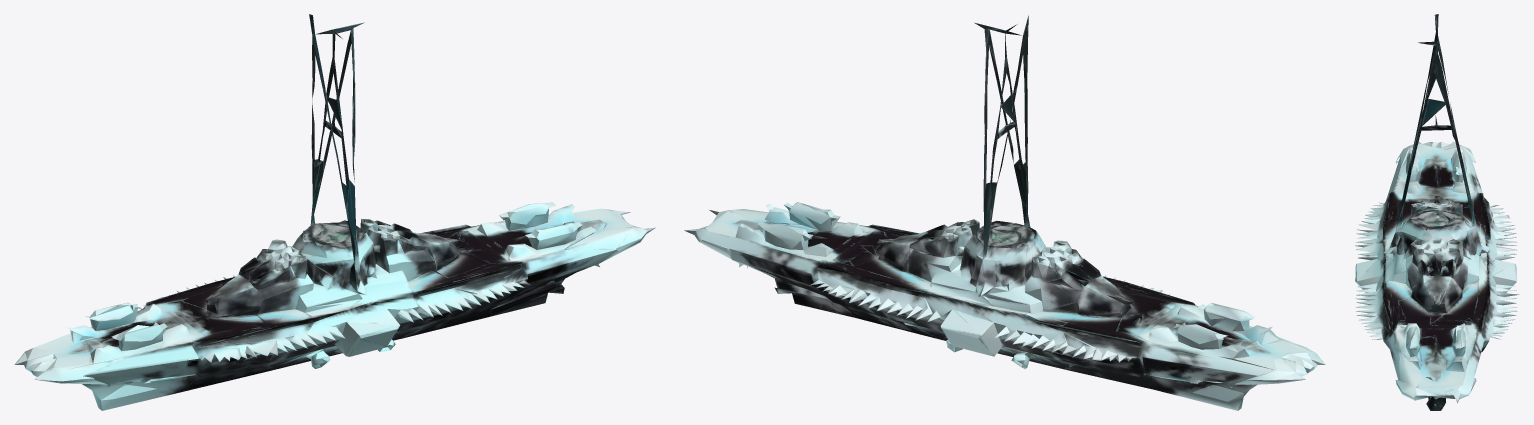
The model's file is boss_niflheim.glb.
3 renders of one model, left to right at view 1: azimuth 30°, elevation 25°; view 2: azimuth 150°, elevation 25°; view 3: azimuth 270°, elevation 25°, orthographic. The views are drawn at different scales.
Size of the model in its own units: 1.9 by 1.01 by 0.5067.
1 material, 1 textured.
